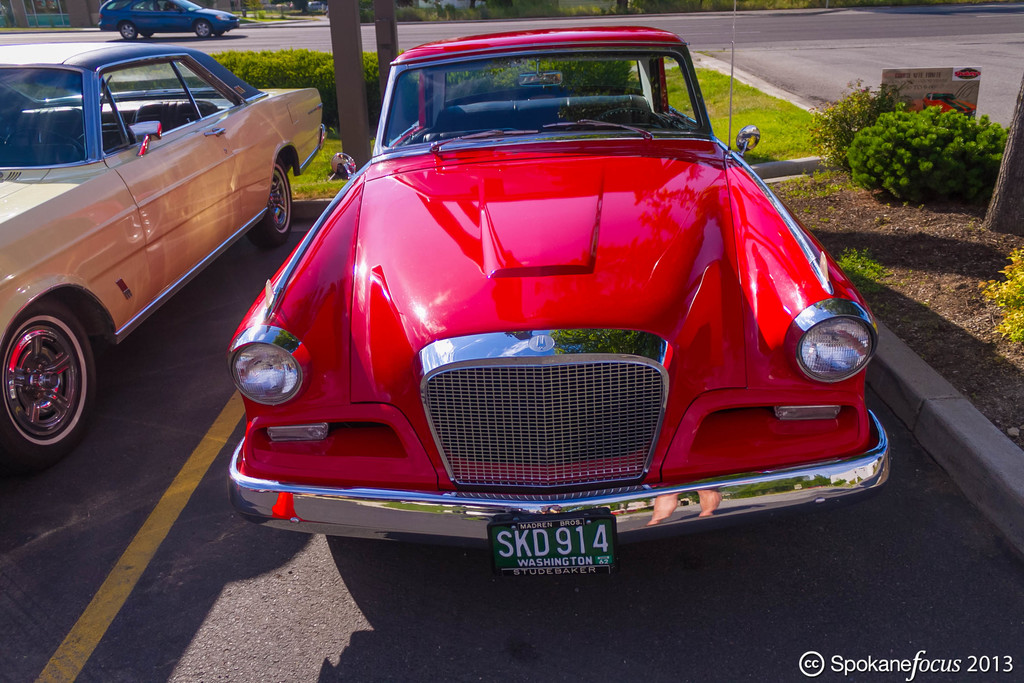Car: (216, 53, 894, 576), (0, 41, 323, 467), (97, 0, 238, 39)
